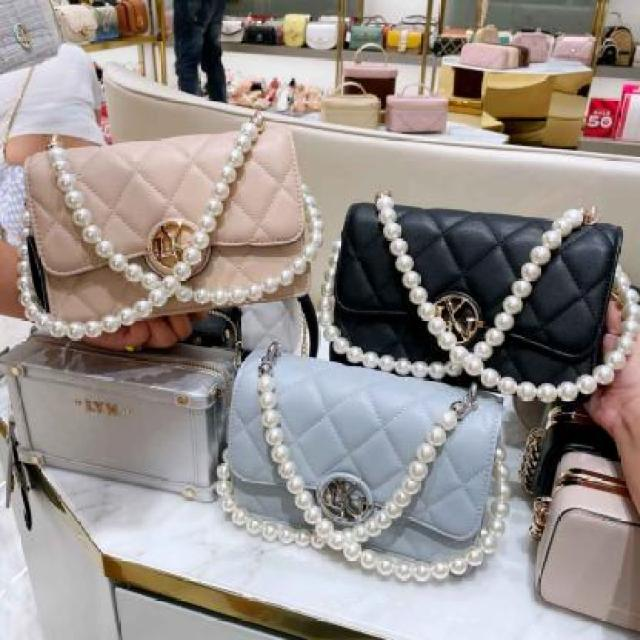Bag: (214, 305, 509, 597), (298, 158, 630, 416), (0, 126, 337, 351), (0, 302, 229, 530)
